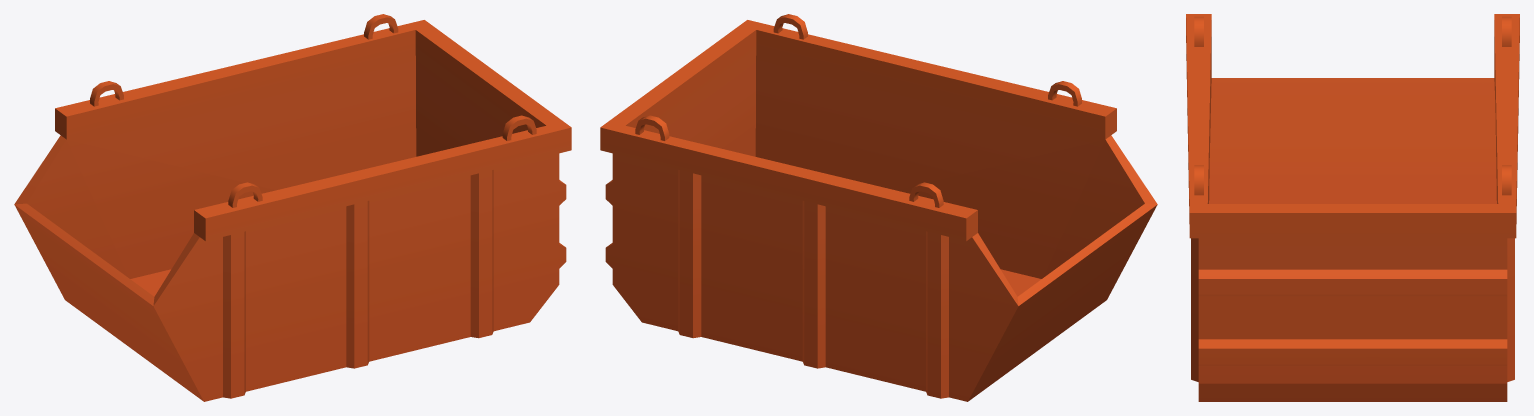
Rendered from RubbleContainer_A_1.fbx.
3 views of the same model, side by side, from view 1: azimuth 30°, elevation 25°; view 2: azimuth 150°, elevation 25°; view 3: azimuth 270°, elevation 25° (orthographic). The views are drawn at different scales.
Parts seen in each view (by area): view 1: RubbleContainer_A_1; view 2: RubbleContainer_A_1; view 3: RubbleContainer_A_1.
Part boxes in pixels (x1,y1,x2,y2): RubbleContainer_A_1: (14,14,571,401); RubbleContainer_A_1: (600,14,1157,401); RubbleContainer_A_1: (1186,14,1519,401).
Size of the model in its own units: 413 by 197 by 260.
